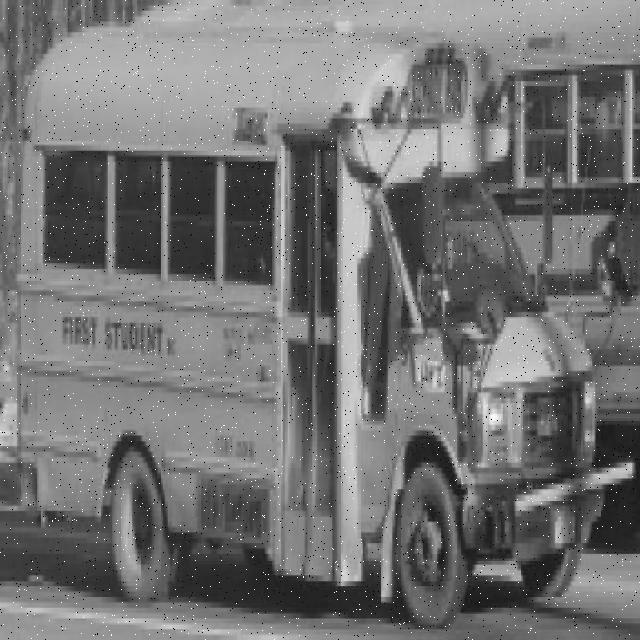Bus- Small: (15, 20, 635, 631)
